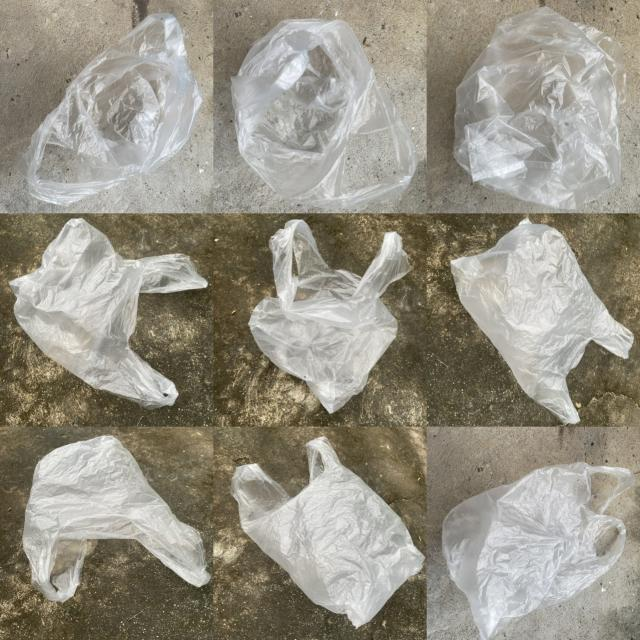Single-layer Plastic: (9, 219, 208, 409), (451, 219, 634, 424), (230, 436, 424, 628), (14, 14, 202, 205), (231, 19, 418, 209), (454, 8, 626, 208), (442, 462, 635, 640), (22, 436, 211, 601), (249, 220, 411, 412)
